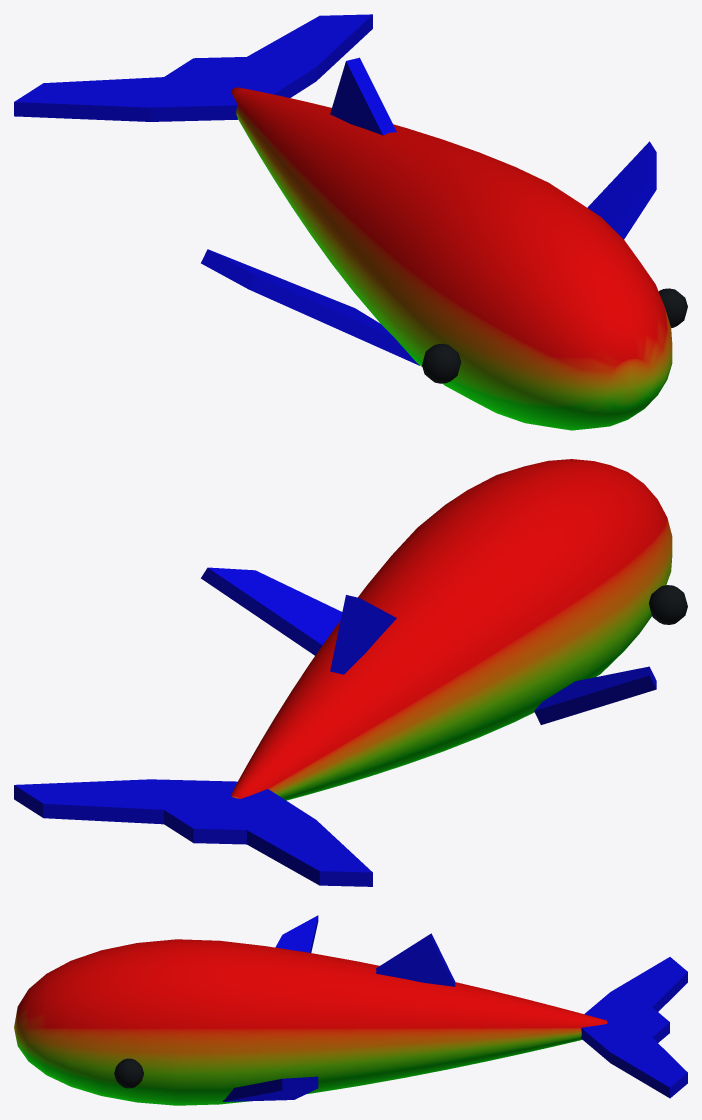
Rendered from fish_whale.glb.
3 views of the same model, one above another, from view 1: azimuth 30°, elevation 25°; view 2: azimuth 150°, elevation 25°; view 3: azimuth 270°, elevation 25° (orthographic). The views are drawn at different scales.
Parts seen in each view (by area): view 1: Body, Eye; view 2: Body, Eye; view 3: Body, Eye.
Boxes of the visible parts, bbox=[...] form: Body: bbox=[14, 14, 672, 430]; Eye: bbox=[422, 288, 687, 383]; Body: bbox=[14, 459, 672, 886]; Eye: bbox=[649, 585, 687, 624]; Body: bbox=[14, 915, 687, 1105]; Eye: bbox=[114, 1058, 143, 1088].
Bounding box in the file's own units: 0.6603 × 0.297 × 1.13.
